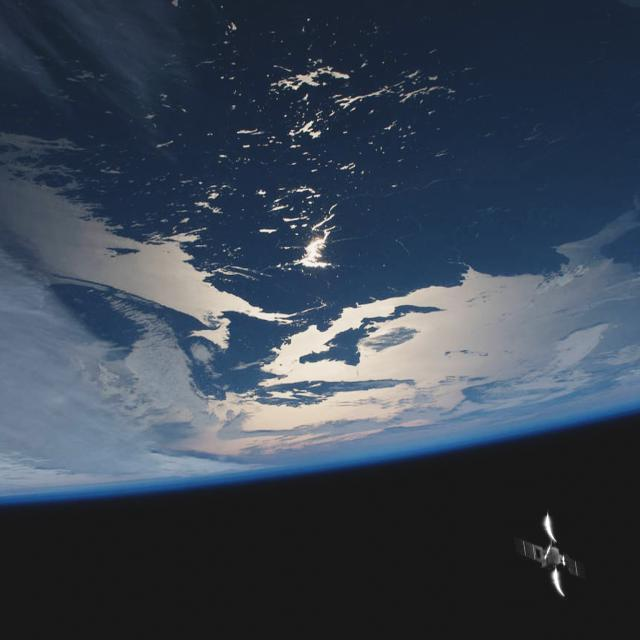satellite: (494, 505, 619, 624)
